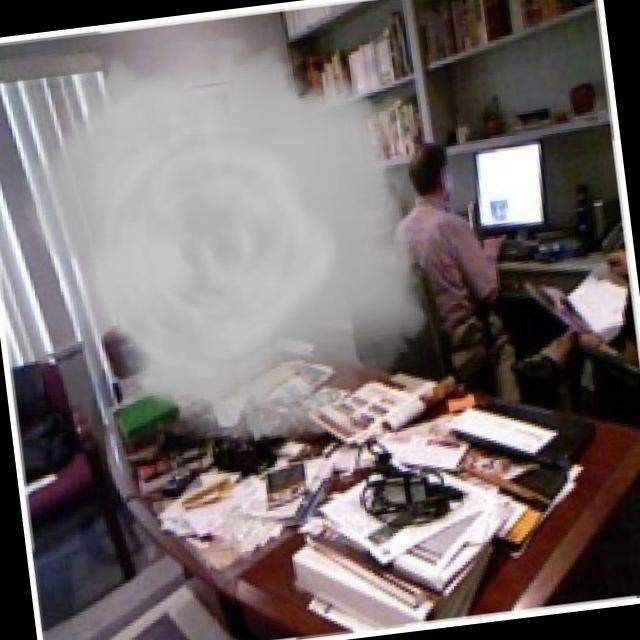Smoke: (0, 15, 462, 467)
